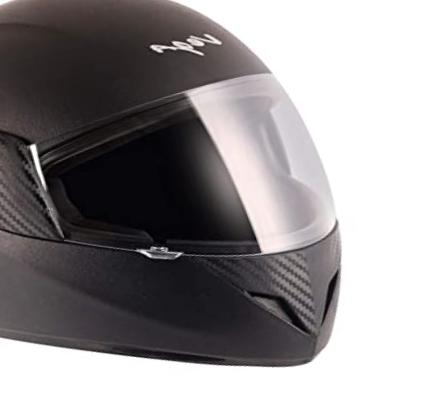helmet: (1, 1, 358, 383)
